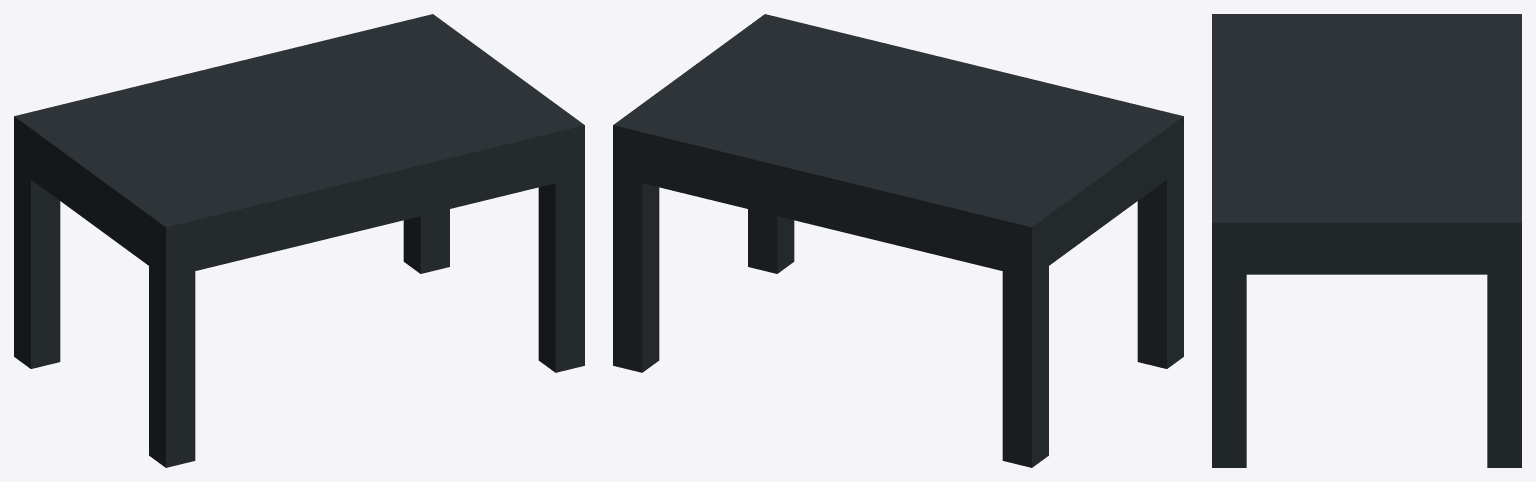
The model's file is table2.fbx.
The picture shows the model from 3 angles, left to right: view 1: azimuth 30°, elevation 25°; view 2: azimuth 150°, elevation 25°; view 3: azimuth 270°, elevation 25°; orthographic projection. The views are drawn at different scales.
Visible parts, largest first — view 1: Cube; view 2: Cube; view 3: Cube.
Boxes of the visible parts, box(x1,y1,x2,y2) form: Cube: box(14, 14, 584, 467); Cube: box(613, 14, 1183, 467); Cube: box(1212, 14, 1521, 467).
Bounding box in the file's own units: 430 × 236 × 270.
